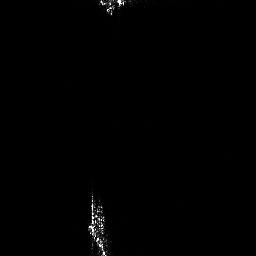ship: (87, 189, 110, 256)
